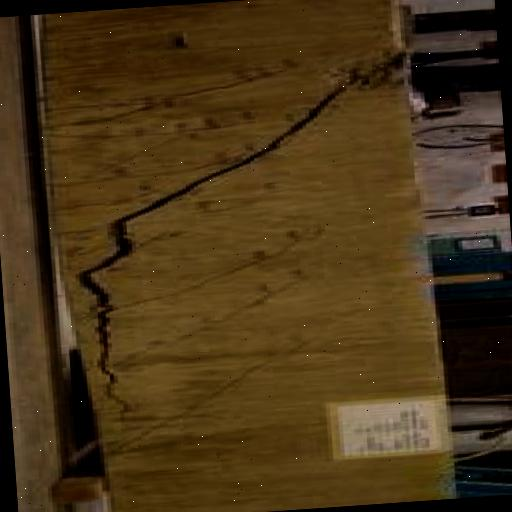spalling: (61, 84, 358, 416)
